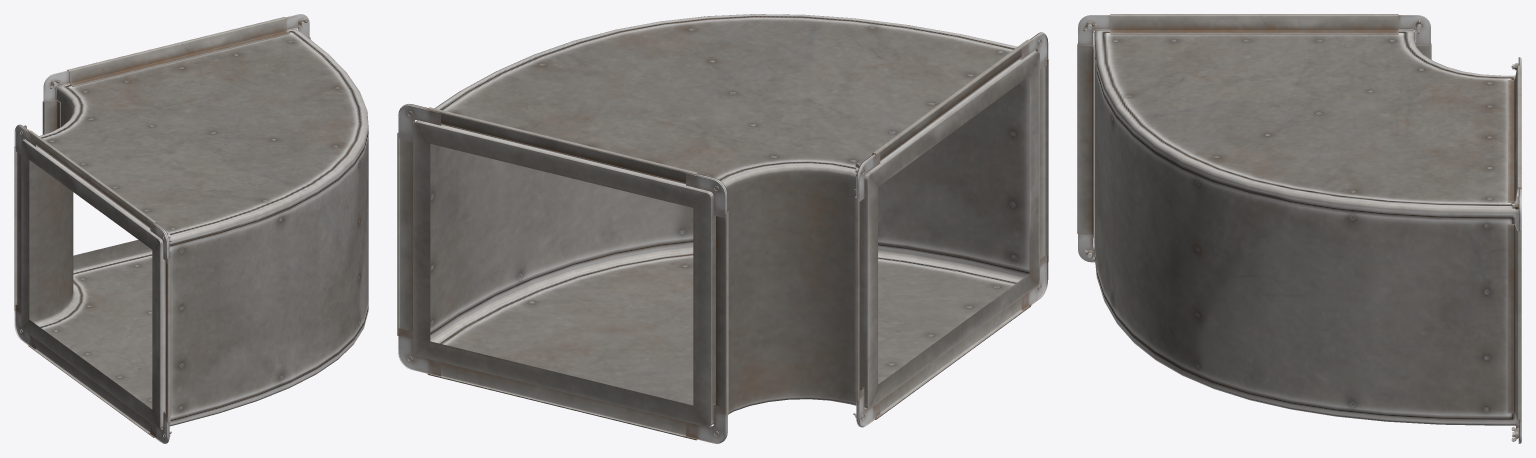
Rendered from bend_02.glb.
3 renders of one model, left to right at view 1: azimuth 30°, elevation 25°; view 2: azimuth 150°, elevation 25°; view 3: azimuth 270°, elevation 25°, orthographic. The views are drawn at different scales.
Visible parts, largest first — view 1: modular_airduct_rectangular_01_bend_02.001; view 2: modular_airduct_rectangular_01_bend_02.001; view 3: modular_airduct_rectangular_01_bend_02.001.
Boxes of the visible parts, x1,y1,x2,y2 form: modular_airduct_rectangular_01_bend_02.001: [14, 14, 368, 443]; modular_airduct_rectangular_01_bend_02.001: [397, 14, 1048, 443]; modular_airduct_rectangular_01_bend_02.001: [1077, 14, 1521, 443].
Bounding box in the file's own units: 0.8318 × 0.5126 × 0.8318.
1 material, 1 textured.
